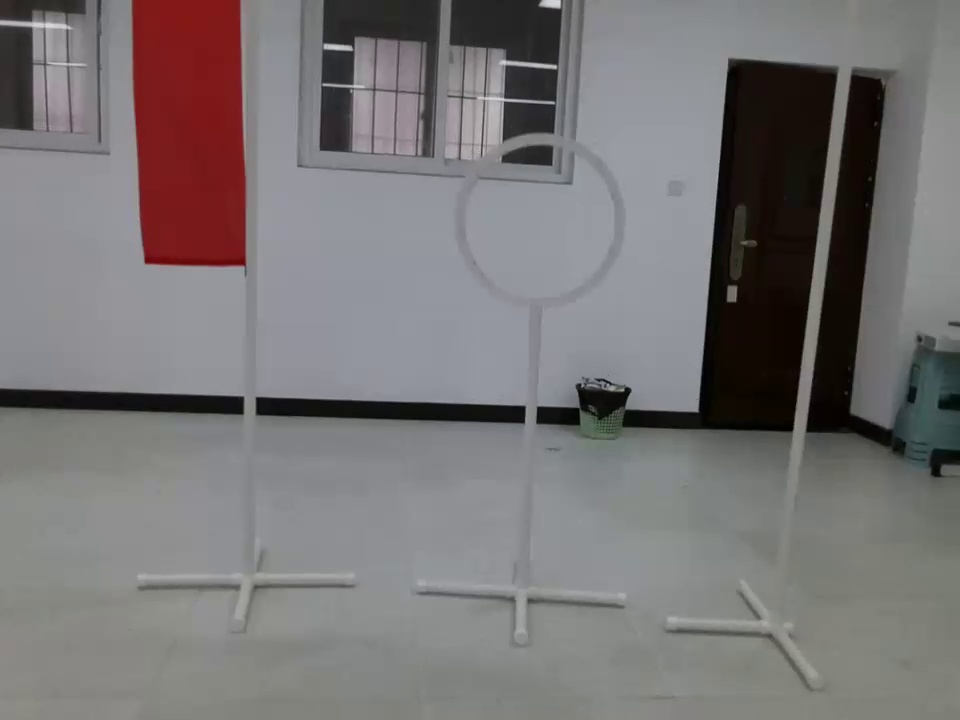gan: (763, 57, 858, 562)
qi: (114, 1, 260, 278)
quan: (437, 125, 629, 320)
